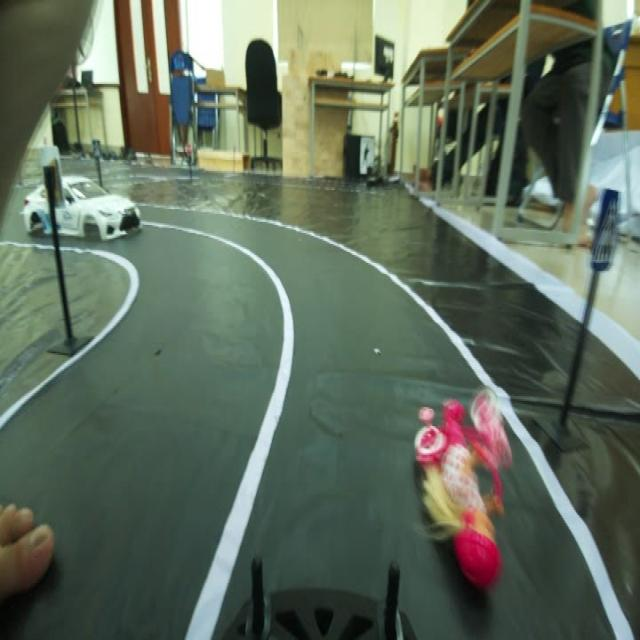crosswalk: (592, 186, 627, 284)
pedestrian: (401, 402, 522, 568)
